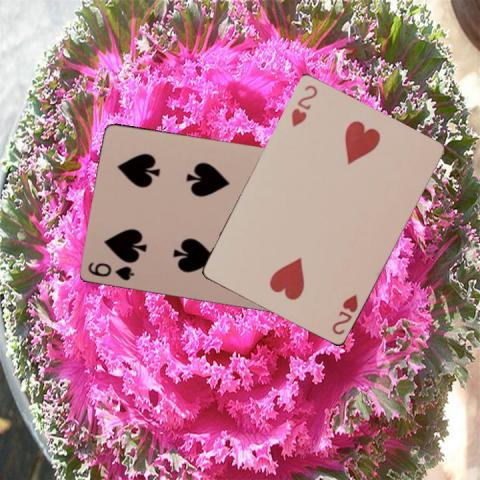2h: (288, 82, 319, 129), (329, 291, 359, 337)
6s: (85, 259, 136, 282)
